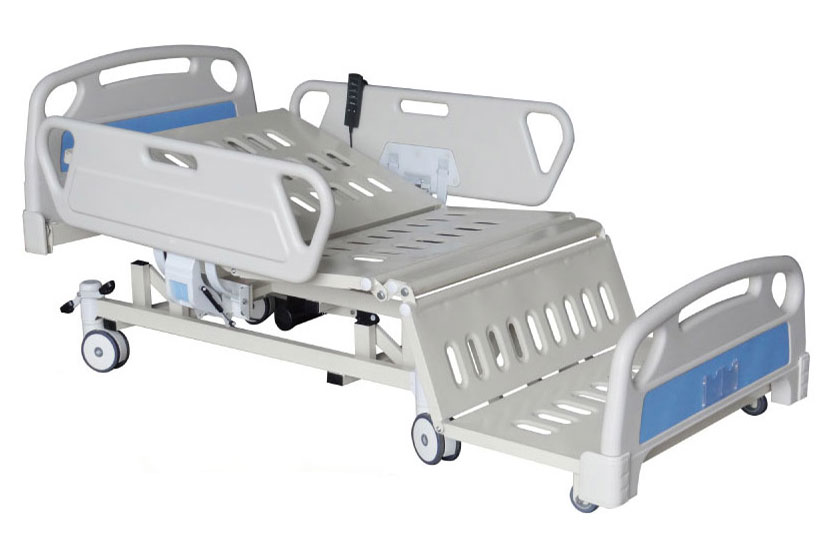trolley_bed: (18, 43, 812, 514)
